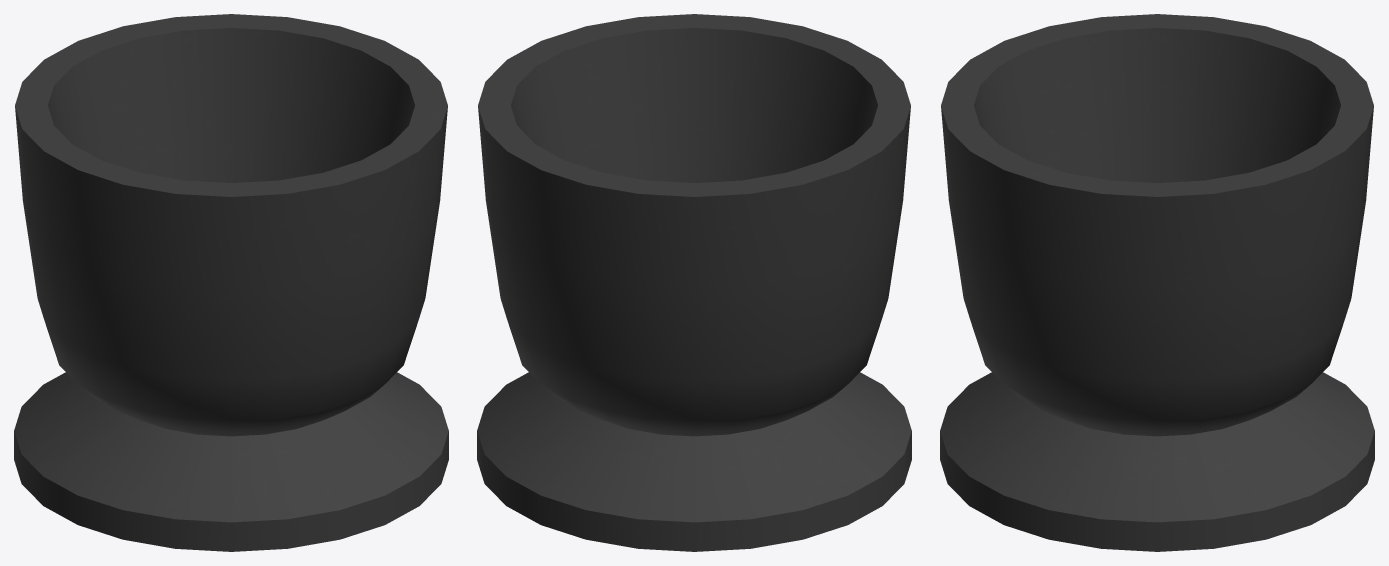
Rendered from Morter.glb.
3 views of the same model, side by side, from view 1: azimuth 30°, elevation 25°; view 2: azimuth 150°, elevation 25°; view 3: azimuth 270°, elevation 25° (orthographic).
Parts seen in each view (by area): view 1: Circle; view 2: Circle; view 3: Circle.
Boxes of the visible parts, x1,y1,x2,y2 form: Circle: (14, 14, 448, 551); Circle: (477, 14, 911, 551); Circle: (940, 14, 1374, 551).
Size of the model in its own units: 0.1 by 0.09 by 0.1.
1 material, 1 textured.
